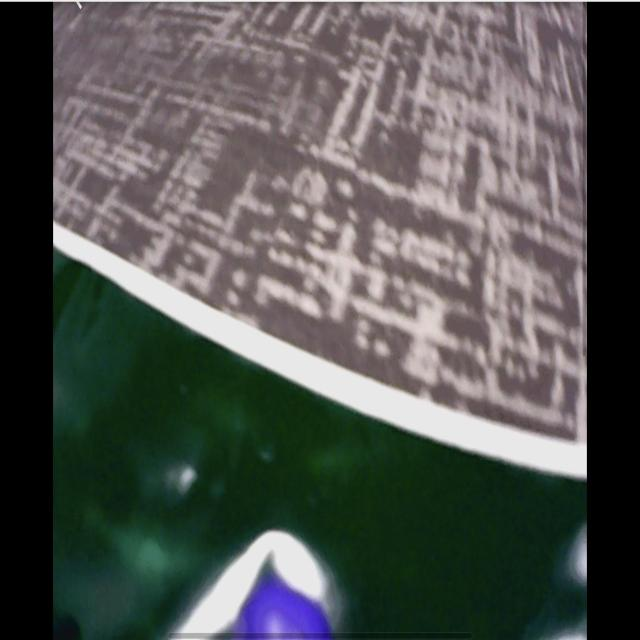ball: (240, 577, 334, 640)
